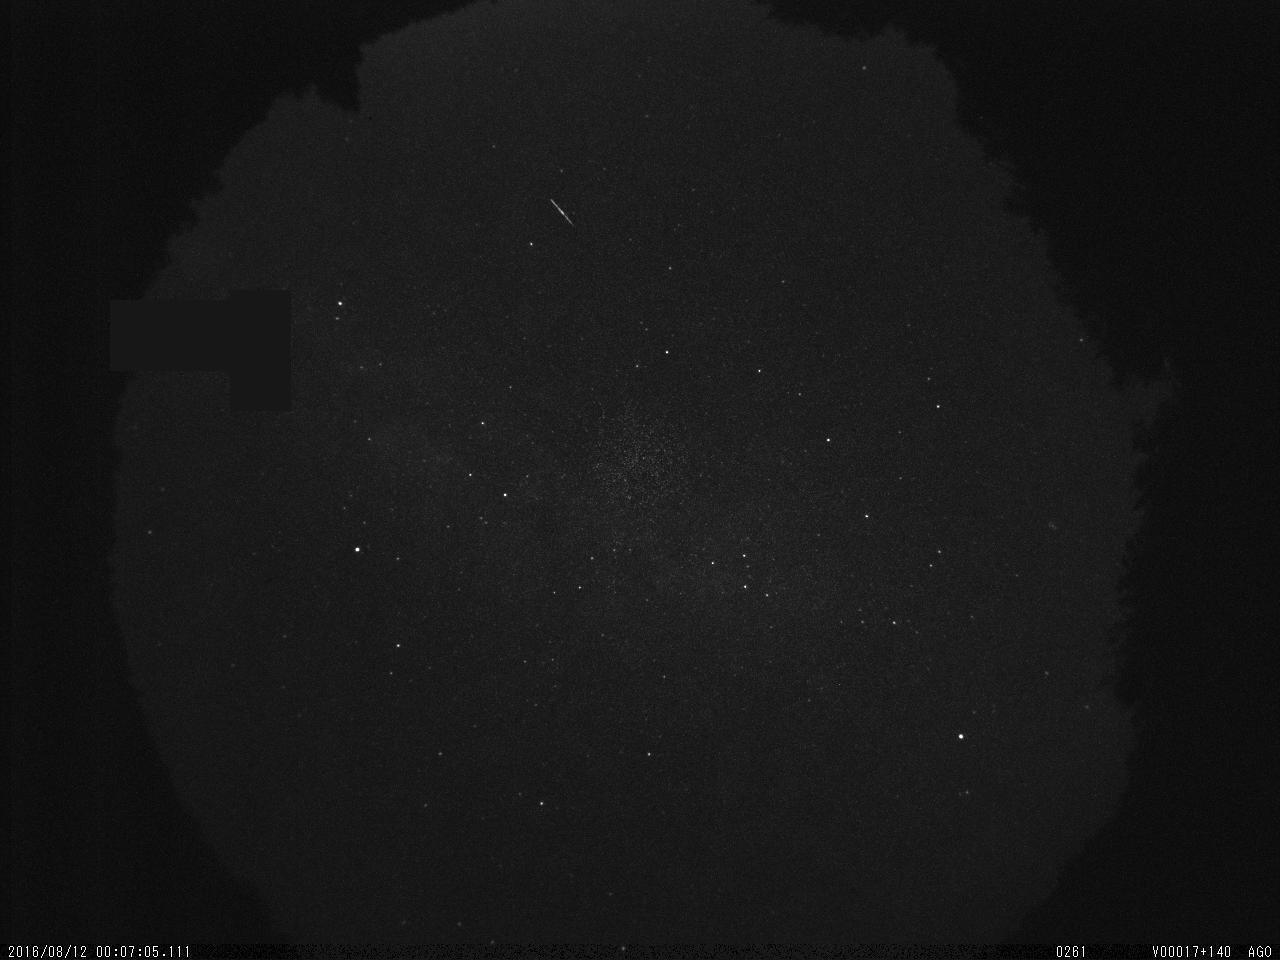Meteor: (545, 193, 585, 237)
